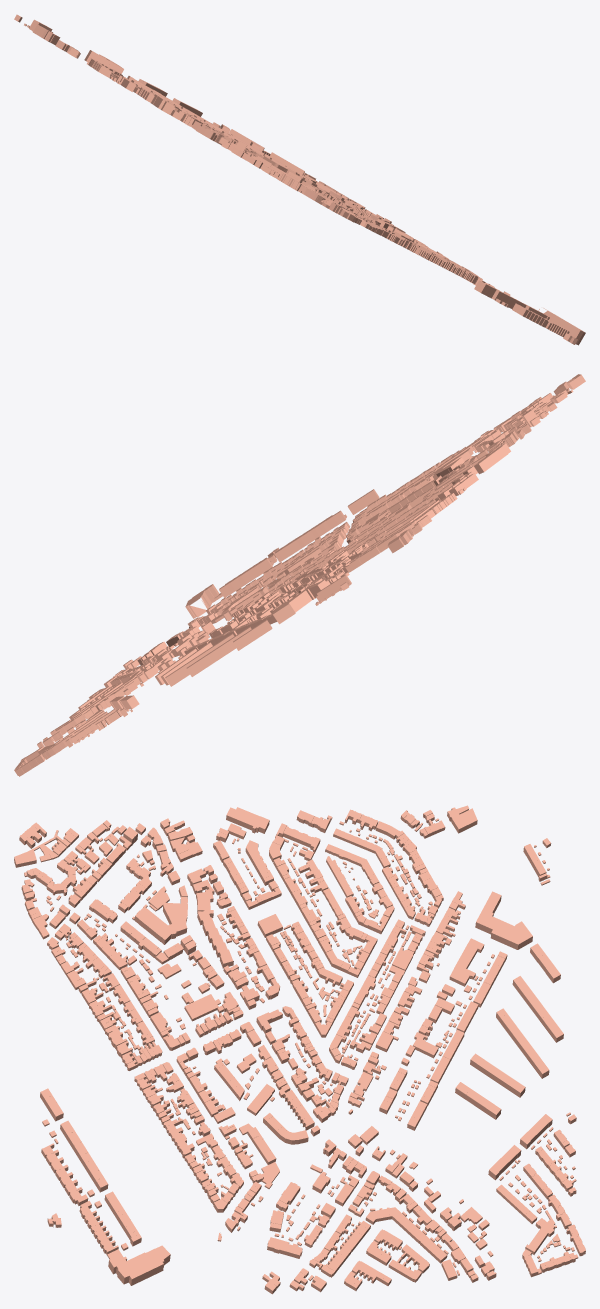
3 renders of one model, top to bottom at view 1: azimuth 30°, elevation 25°; view 2: azimuth 150°, elevation 25°; view 3: azimuth 270°, elevation 25°, orthographic. The views are drawn at different scales.
Size of the model in its own units: 516 by 386 by 649.
